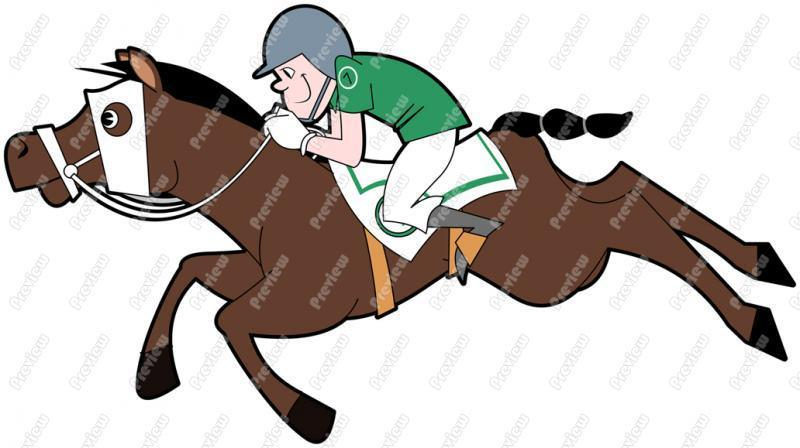horse: (2, 38, 789, 448)
person: (236, 2, 507, 289)
